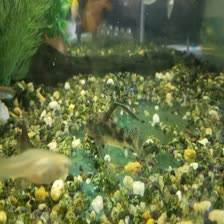Guppy: (0, 141, 75, 196)
Kiros: (79, 104, 156, 165)
